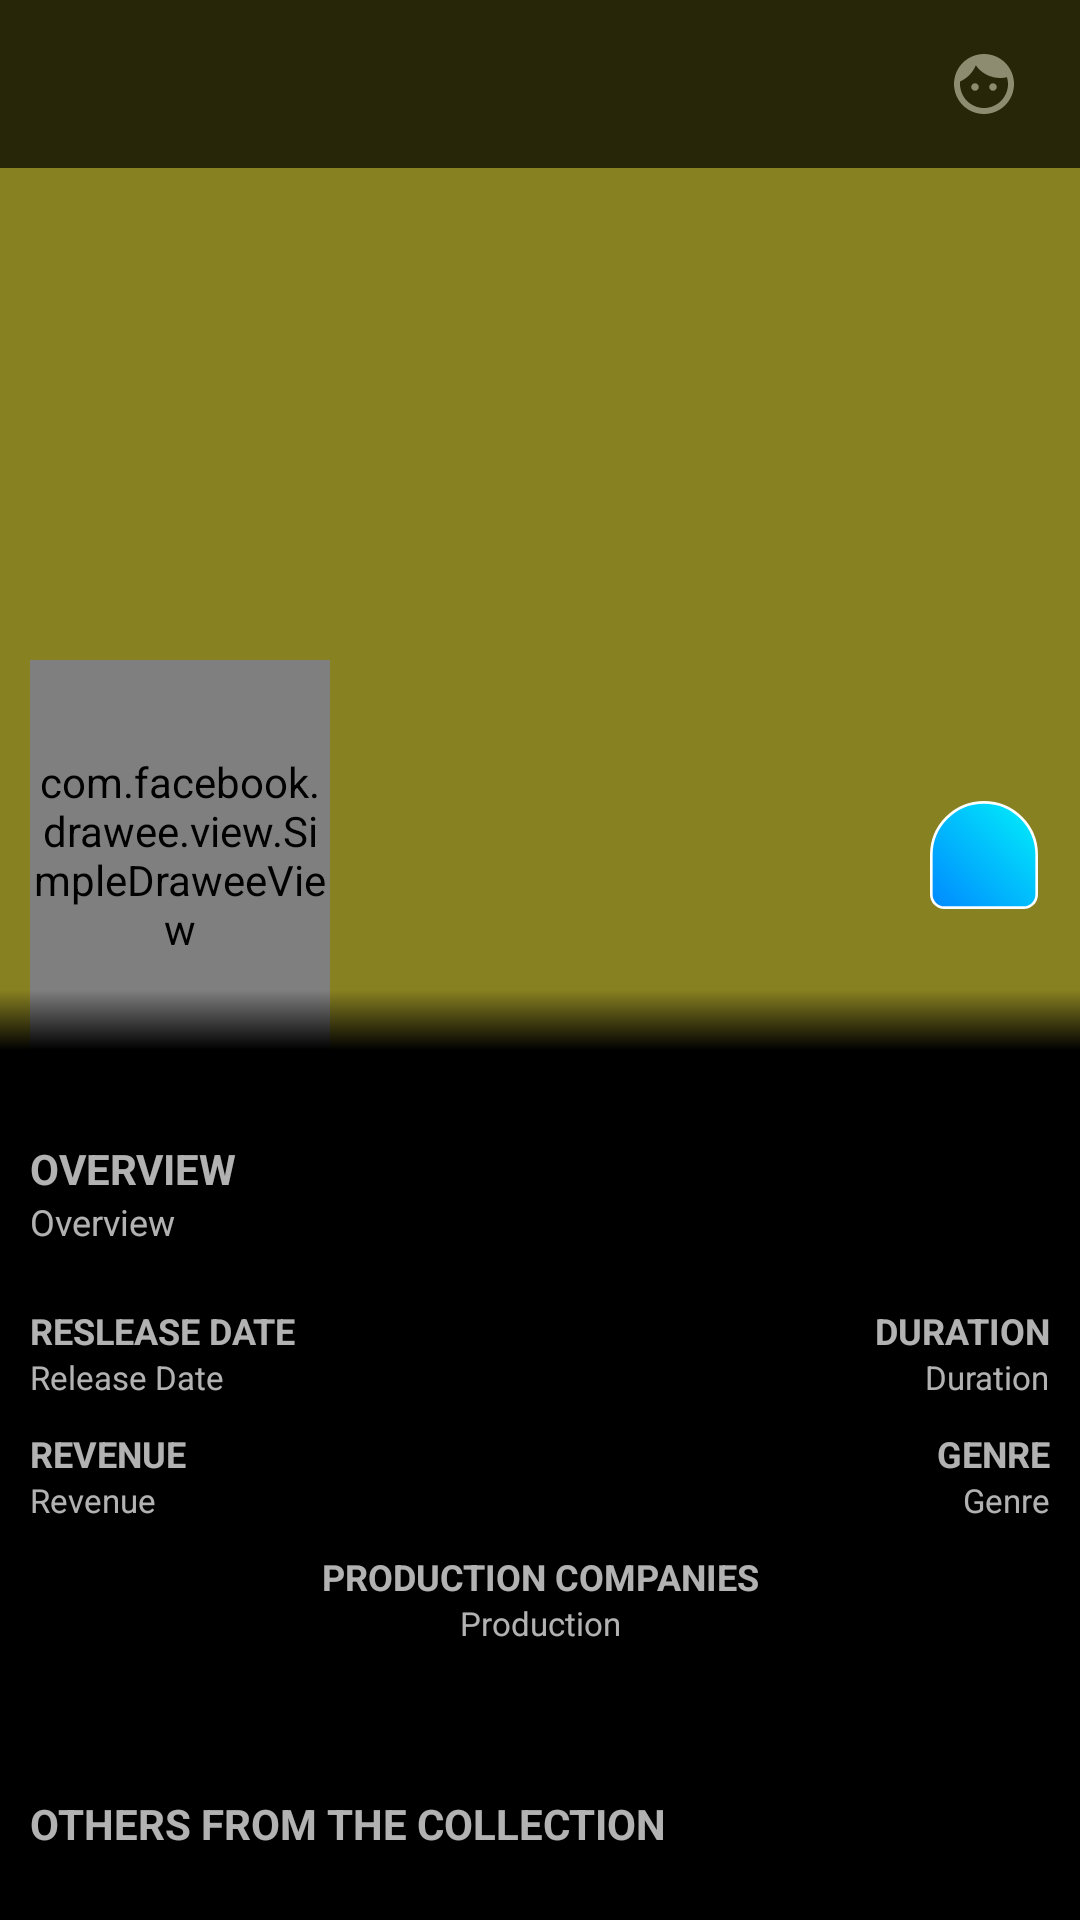

Point at icon controls on the screen. Image size 1080 x 1920, points as (x=x, y=y).
profile: (x=984, y=84)
